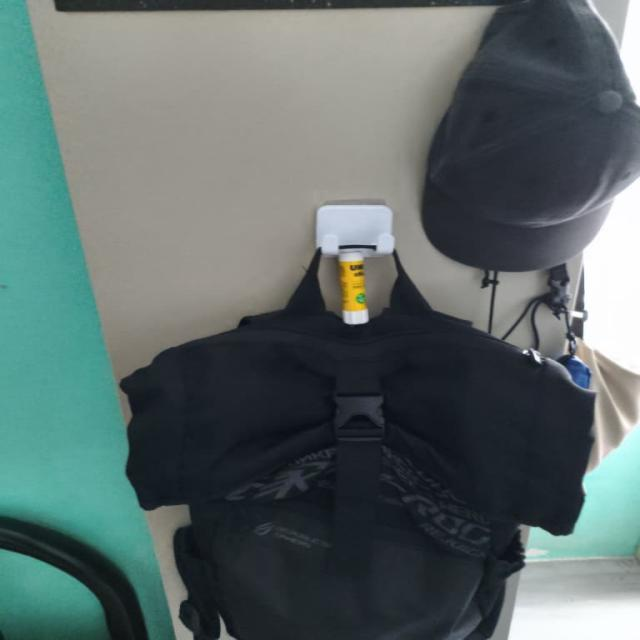glue: (339, 251, 368, 325)
